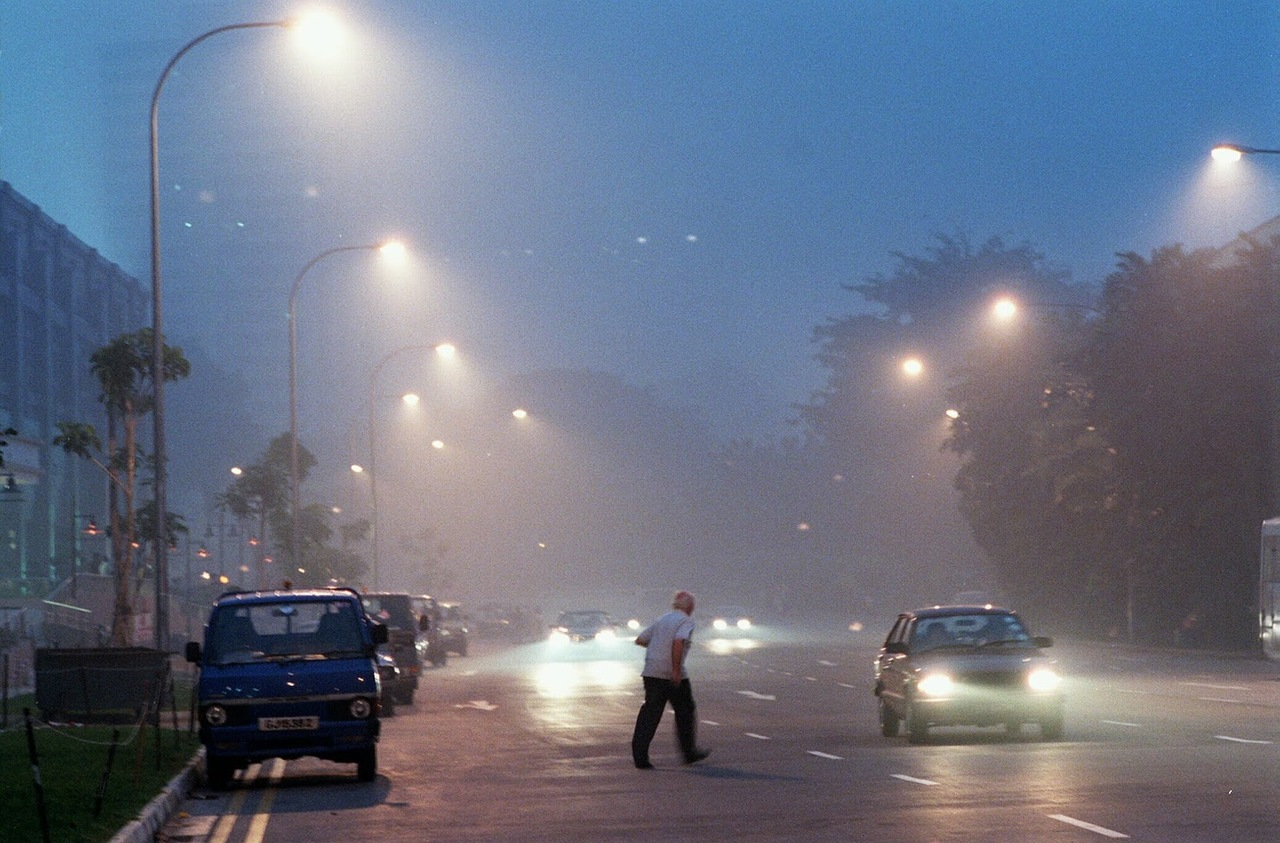car: (185, 590, 370, 783), (872, 602, 1065, 742), (380, 589, 417, 701), (549, 608, 624, 645), (418, 590, 445, 677), (709, 604, 755, 640), (444, 600, 473, 651)
person: (625, 589, 707, 769)
